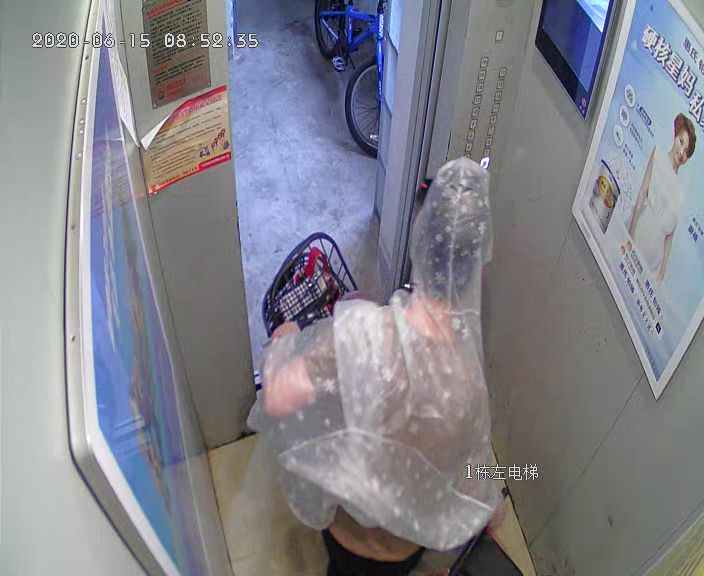Electric-bicycle: (260, 233, 518, 574)
